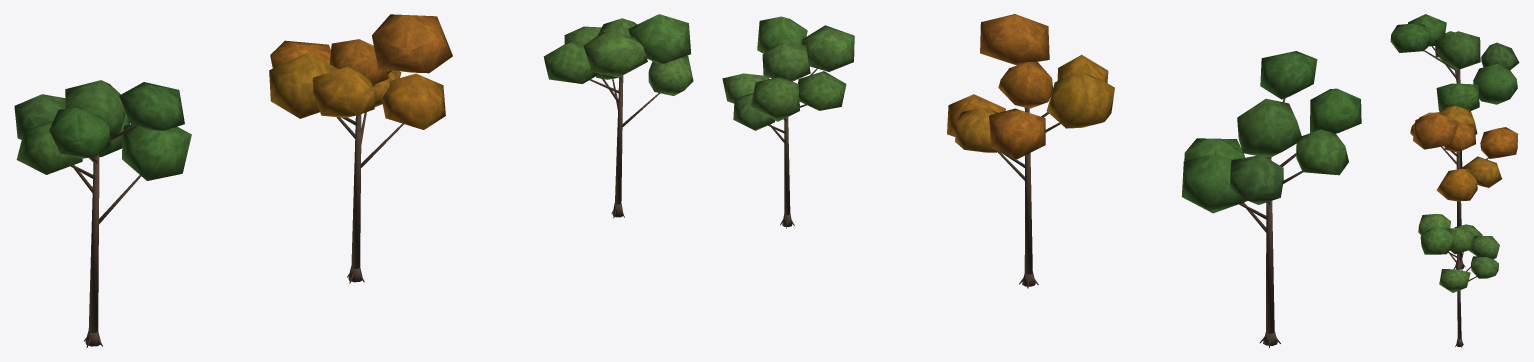
The model's file is street_tree.glb.
3 views of the same model, side by side, from view 1: azimuth 30°, elevation 25°; view 2: azimuth 150°, elevation 25°; view 3: azimuth 270°, elevation 25° (orthographic). The views are drawn at different scales.
Parts seen in each view (by area): view 1: street_tree_v2, street_tree_v1, street_tree_v3; view 2: street_tree_v1, street_tree_v2, street_tree_v3; view 3: street_tree_v1, street_tree_v2, street_tree_v3.
Part boxes in pixels (left/top/right/bottom): street_tree_v2: left=269, top=14, right=452, bottom=283; street_tree_v1: left=14, top=80, right=191, bottom=347; street_tree_v3: left=543, top=14, right=693, bottom=218; street_tree_v1: left=1181, top=51, right=1361, bottom=347; street_tree_v2: left=947, top=14, right=1114, bottom=288; street_tree_v3: left=722, top=16, right=854, bottom=228; street_tree_v1: left=1390, top=14, right=1519, bottom=169; street_tree_v2: left=1410, top=106, right=1518, bottom=270; street_tree_v3: left=1418, top=213, right=1499, bottom=347.
Size of the model in its own units: 20.46 by 8.23 by 5.6.
2 materials, 2 textured.
